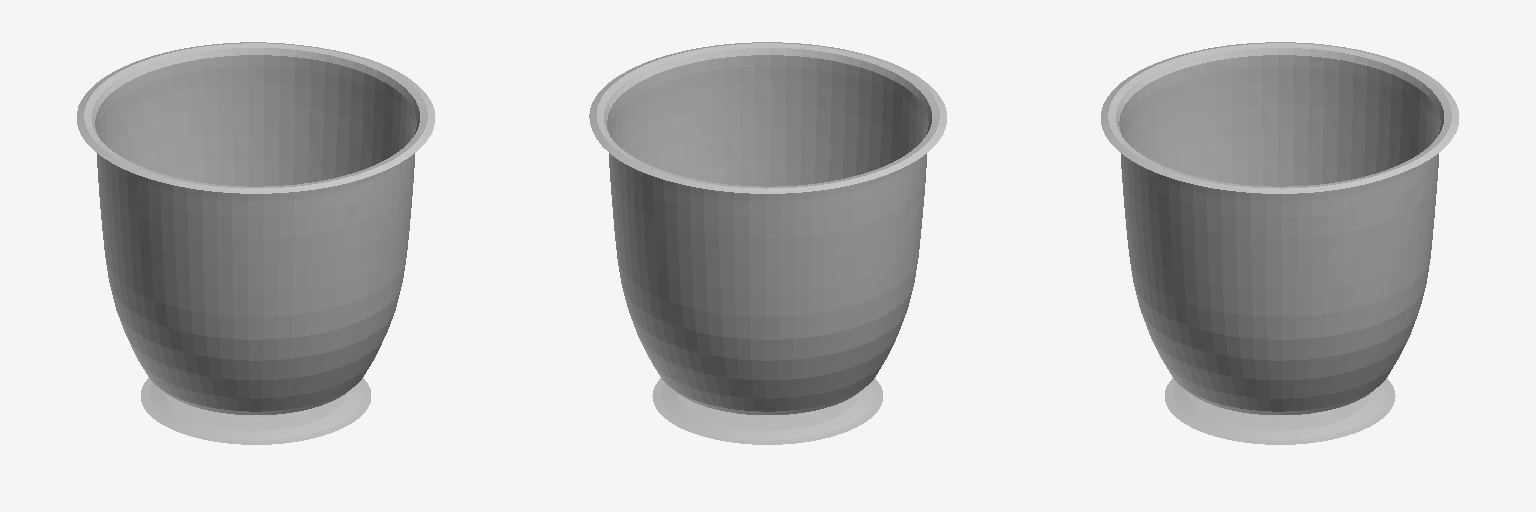
Rendered from Inside.obj.
The picture shows the model from 3 angles: view 1: azimuth 30°, elevation 25°; view 2: azimuth 150°, elevation 25°; view 3: azimuth 270°, elevation 25°; orthographic projection.
Visible parts, largest first — view 1: Inside; view 2: Inside; view 3: Inside.
Part boxes in pixels (bbox=[...]): Inside: bbox=[77, 42, 434, 444]; Inside: bbox=[589, 42, 946, 444]; Inside: bbox=[1101, 42, 1459, 444].
Bounding box in the file's own units: 14.34 × 12.35 × 14.34.